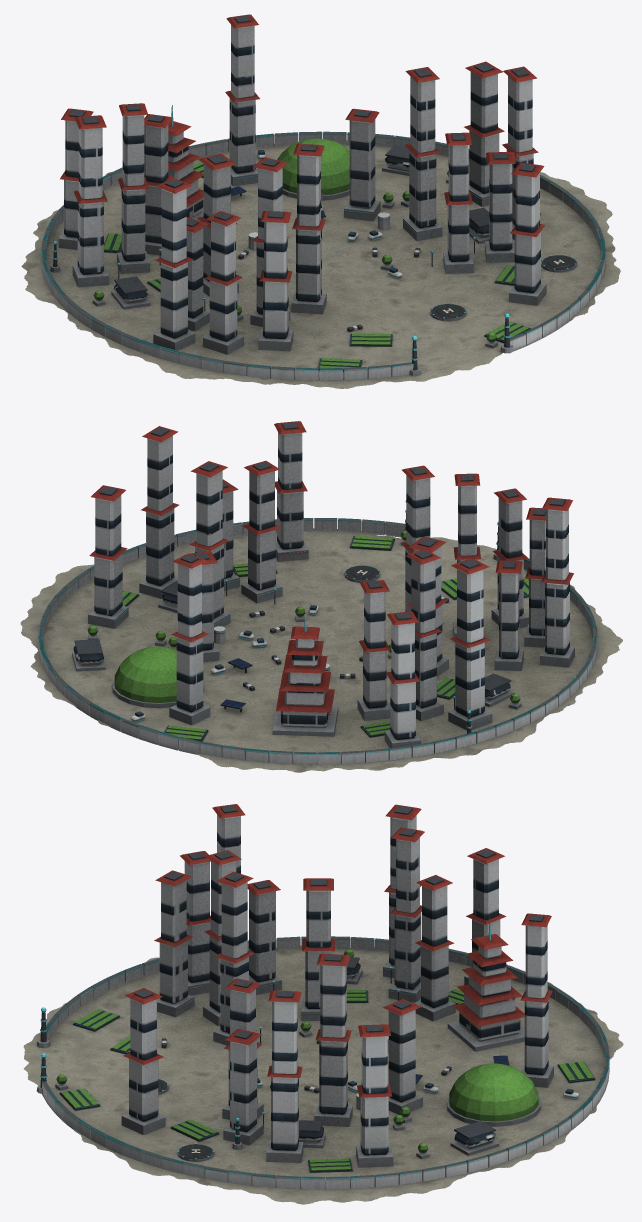
Rendered from future-town-big-a-sinic.glb.
3 views of the same model, one above another, from view 1: azimuth 30°, elevation 25°; view 2: azimuth 150°, elevation 25°; view 3: azimuth 270°, elevation 25° (orthographic). The views are drawn at different scales.
Visible parts, largest first — view 1: LOD0; view 2: LOD0; view 3: LOD0.
Boxes of the visible parts, <box> form: LOD0: <box>21,14,620,388</box>; LOD0: <box>20,421,622,772</box>; LOD0: <box>23,804,623,1204</box>.
Size of what is drawn, in the model's own units: 7.94 by 2.3 by 7.77.
Materials: 3 (3 with a texture image).
